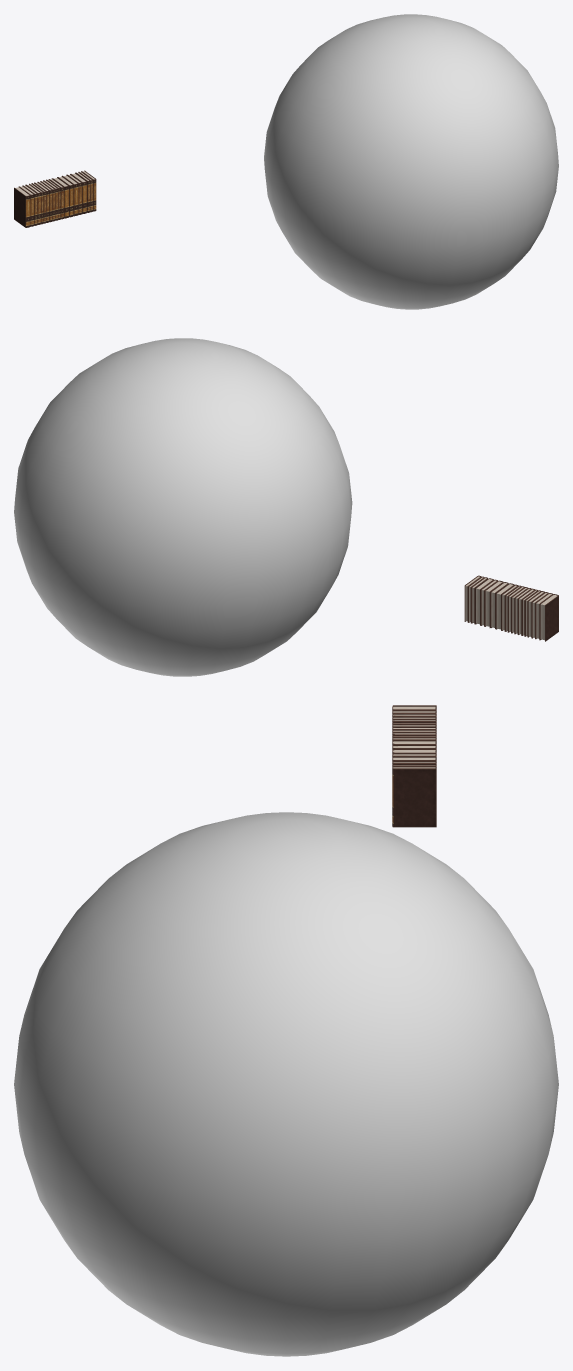
Rendered from book_encyclopedia_set_01_1k.glb.
3 renders of one model, top to bottom at view 1: azimuth 30°, elevation 25°; view 2: azimuth 150°, elevation 25°; view 3: azimuth 270°, elevation 25°, orthographic. The views are drawn at different scales.
Visible parts, largest first — view 1: Sphere_stash_0, book_encyclopedia_set_01_book01; view 2: Sphere_stash_0, book_encyclopedia_set_01_book01; view 3: Sphere_stash_0, book_encyclopedia_set_01_book20.
Boxes of the visible parts, x1=… form: Sphere_stash_0: x1=264, y1=14, x2=558, y2=309; book_encyclopedia_set_01_book01: x1=14, y1=186, x2=30, y2=227; Sphere_stash_0: x1=14, y1=338, x2=352, y2=676; book_encyclopedia_set_01_book01: x1=540, y1=594, x2=558, y2=641; Sphere_stash_0: x1=14, y1=812, x2=558, y2=1356; book_encyclopedia_set_01_book20: x1=392, y1=766, x2=436, y2=827.
Size of the model in its own units: 3.79 by 2 by 2.
2 materials, 2 textured.
